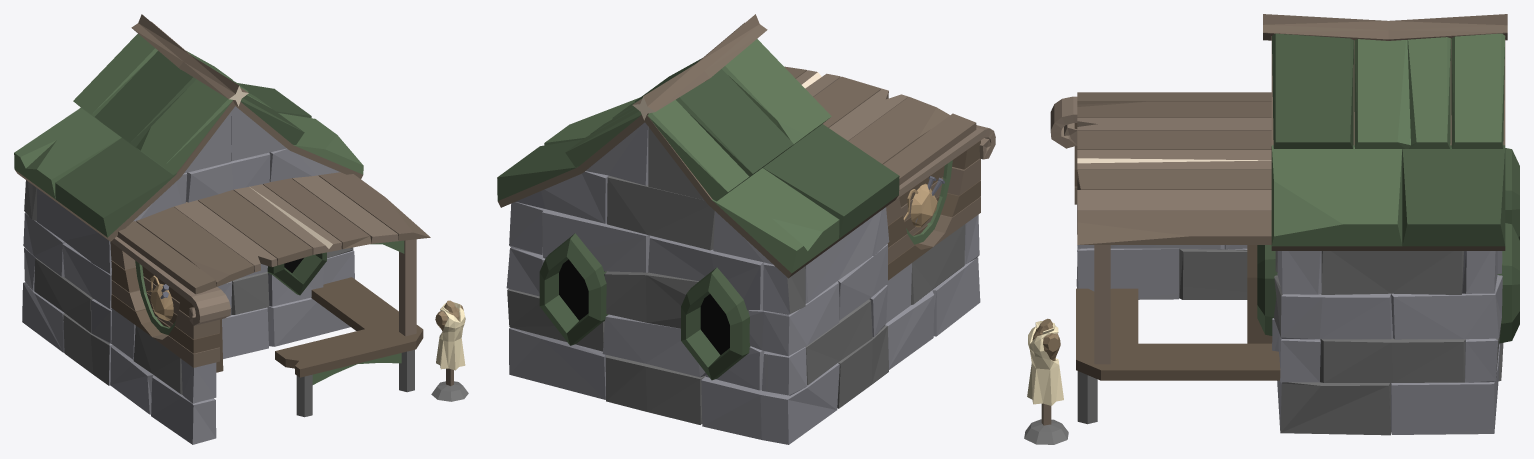
File: _weaving_work.fbx
3 renders of one model, left to right at view 1: azimuth 30°, elevation 25°; view 2: azimuth 150°, elevation 25°; view 3: azimuth 270°, elevation 25°, orthographic. The views are drawn at different scales.
Visible parts, largest first — view 1: weaving_work; view 2: weaving_work; view 3: weaving_work.
Part boxes in pixels (box(x1,y1,x2,y2)): weaving_work: box(14, 14, 468, 444); weaving_work: box(497, 14, 995, 444); weaving_work: box(1024, 14, 1519, 444).
Bounding box in the file's own units: 558 × 544 × 707.
